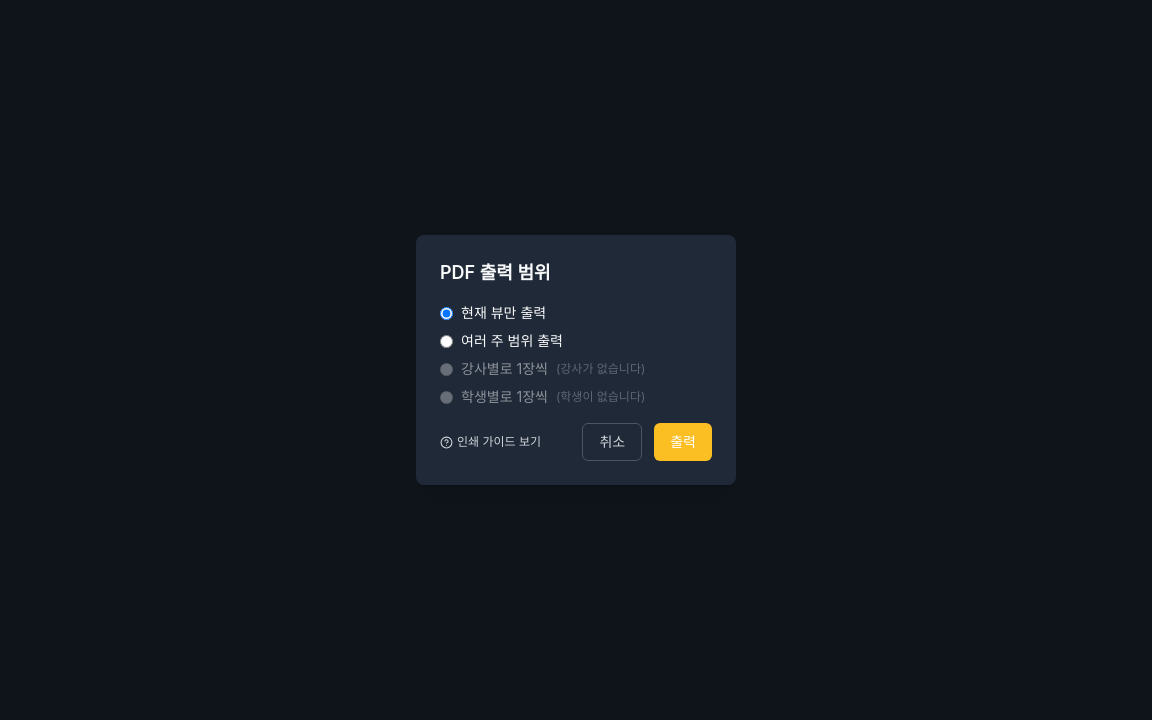
Test case: PdfExportRangeModal › '여러 주 범위 출력' 선택 시 날짜 입력 2개 노출
Click the radio button labelled "여러 주 범위 출력": x=446, y=341 [440,334,453,348]
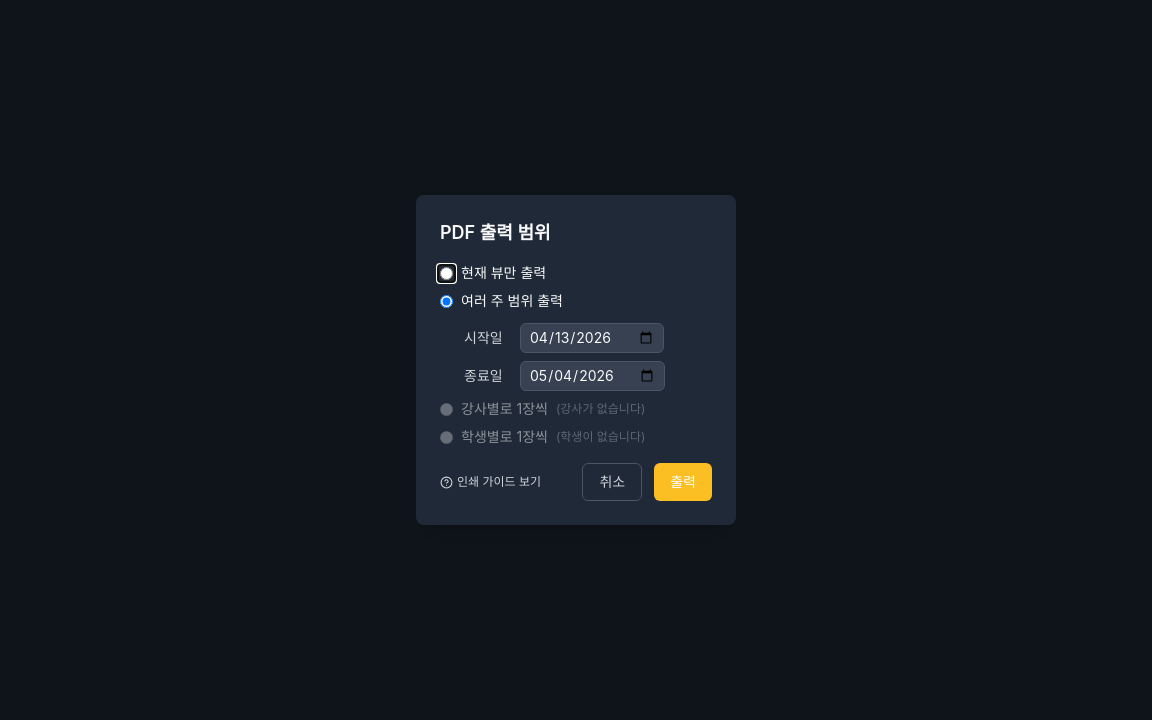
Check: the date field labelled "시작일" is shown, box [520,323,664,353]
Check: the date field labelled "종료일" is shown, box [520,361,665,391]
